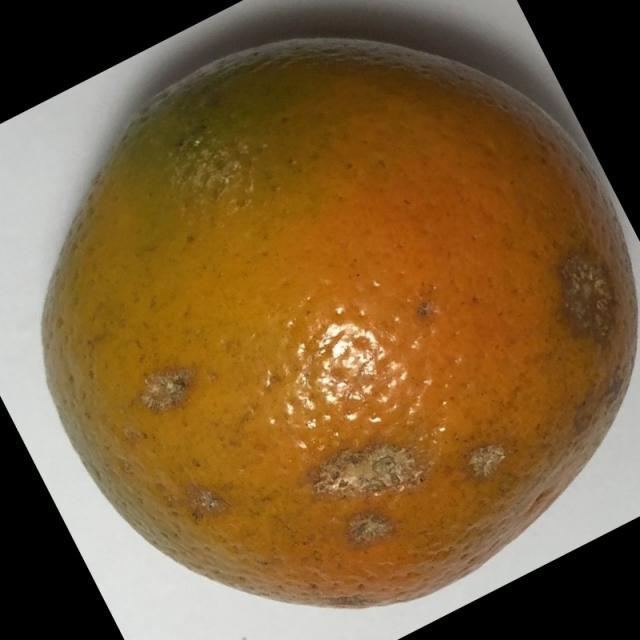canker: (20, 18, 640, 610)
